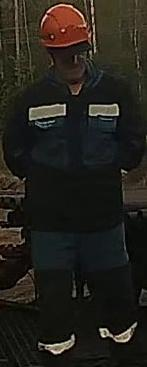helmet: (38, 2, 92, 50)
vest: (20, 80, 129, 232)
